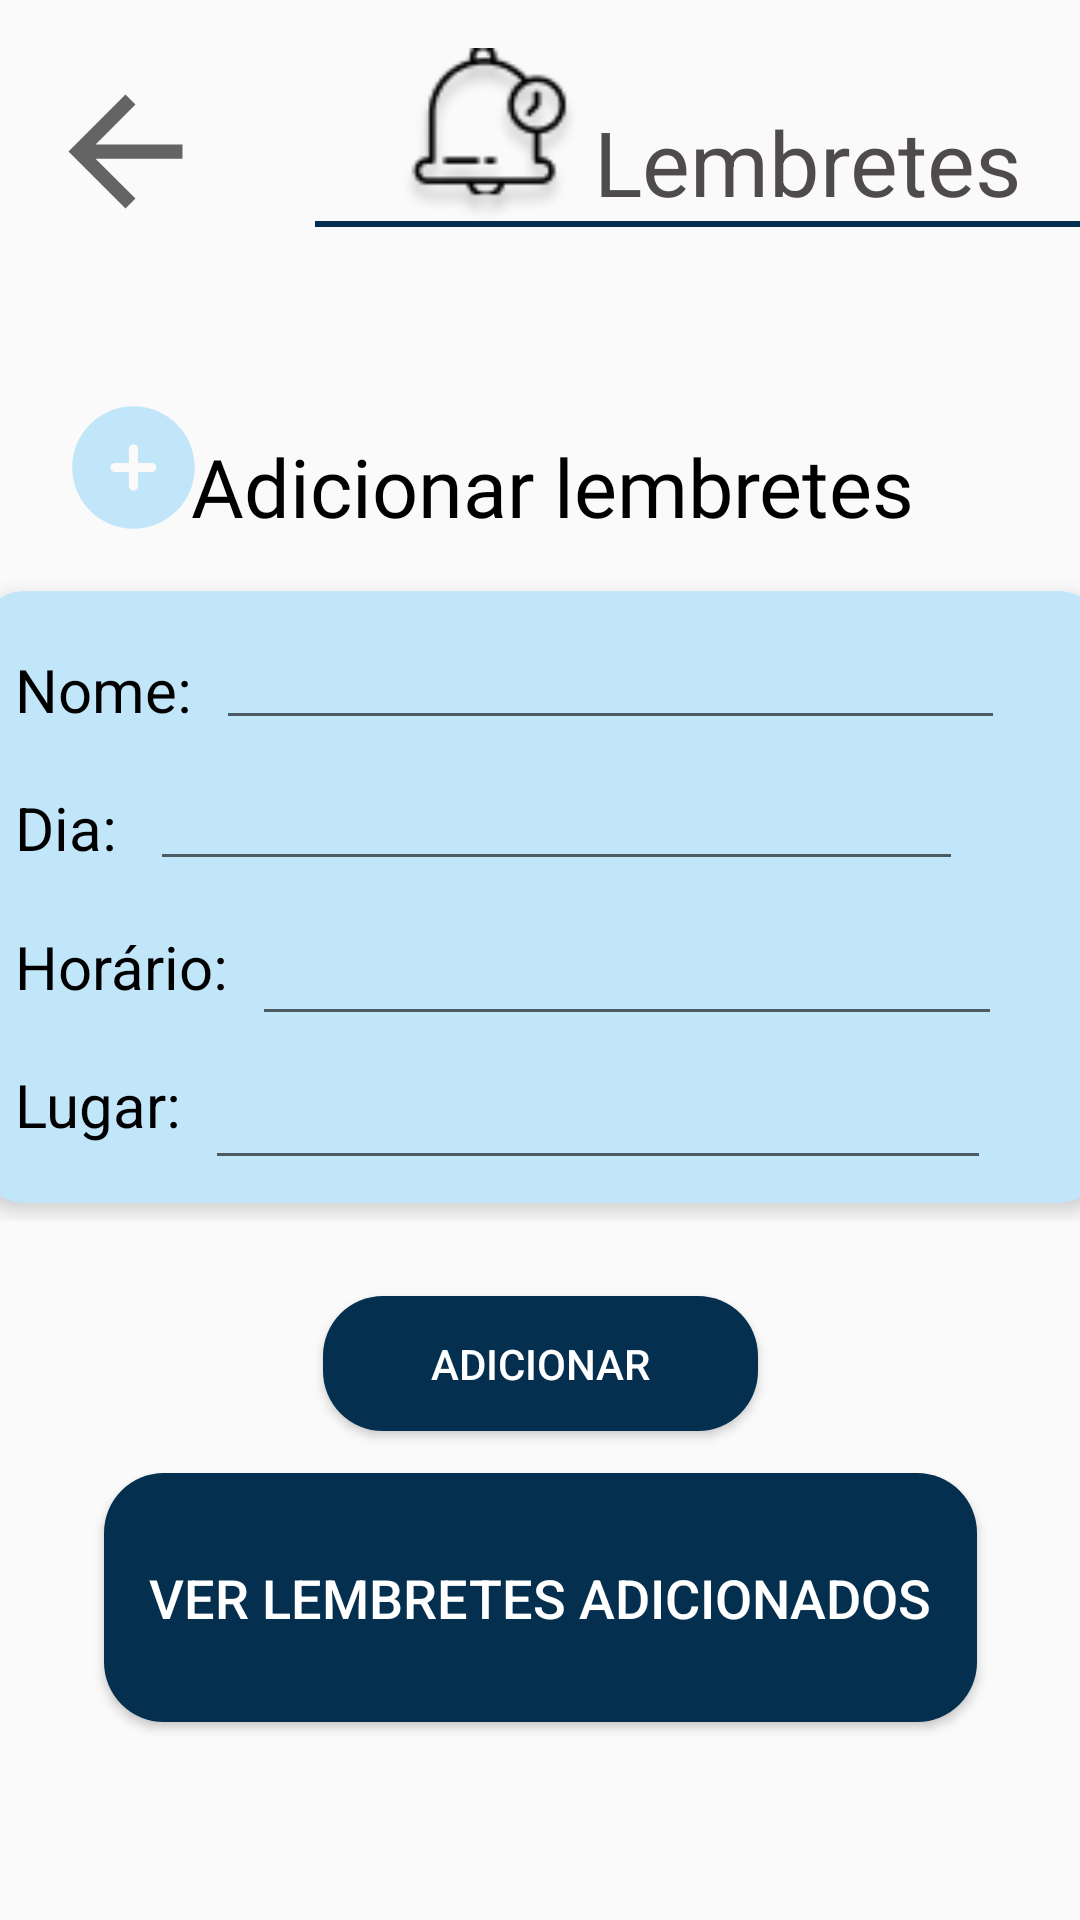

Locate icon controls on the screen. Image size 1080 x 1920, boxes as (x1, y1, x2, y2).
add circle: (72, 406, 195, 529)
sino: (411, 48, 567, 205)
